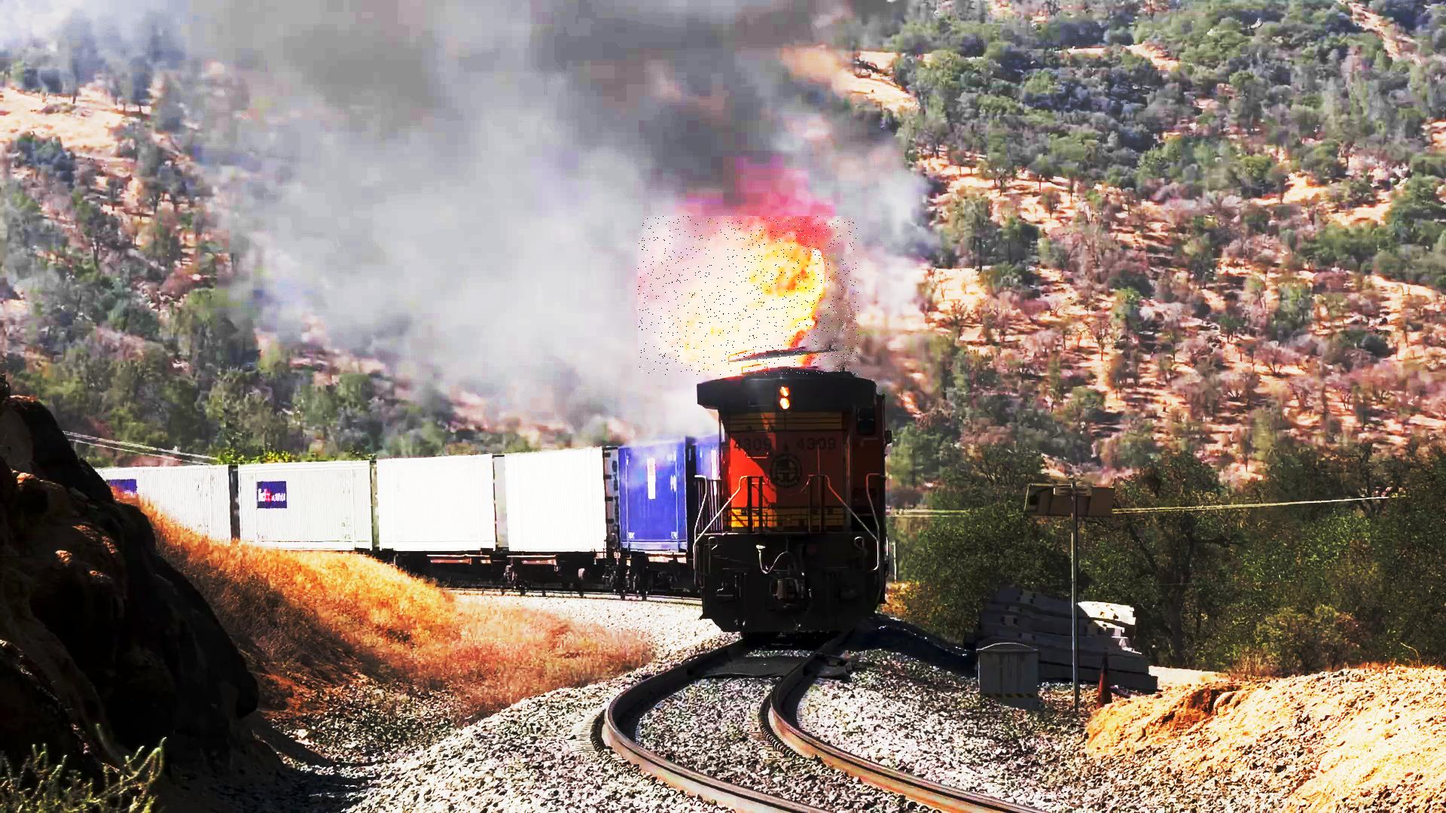fire: (639, 217, 859, 375)
